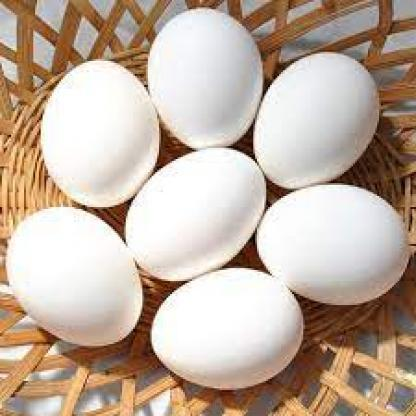egg: (122, 146, 268, 284), (4, 207, 145, 348), (254, 181, 413, 306), (150, 266, 307, 392), (39, 58, 164, 210), (252, 48, 384, 190), (145, 6, 266, 150)
